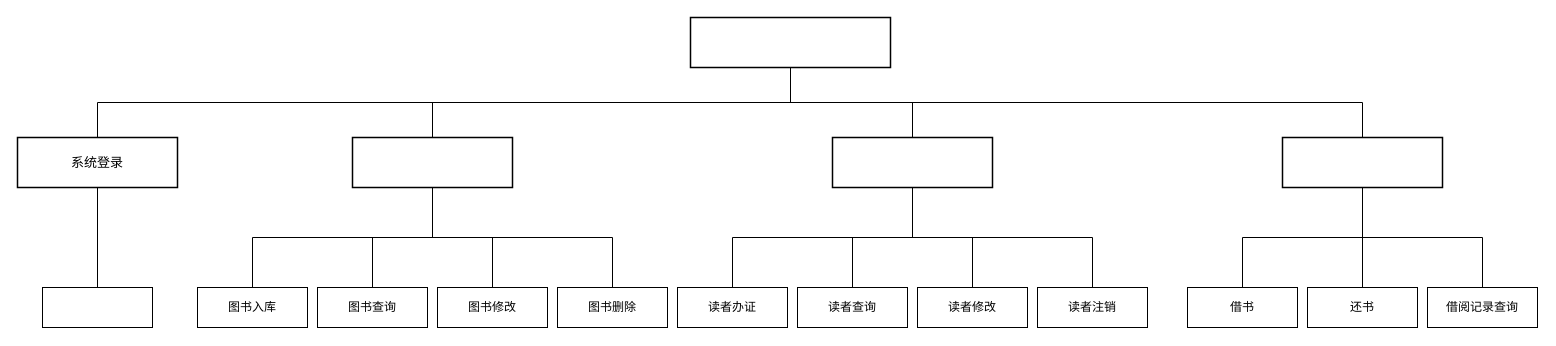
This 1556x346 diagram has some shape labels left out. The shapes that lost their labels are listed below. From the top down, each one's centre as x and y in pixels, then its label:
At point (790, 42): "图书管理系统".
At point (432, 162): "图书管理".
At point (912, 162): "读者管理".
At point (1362, 162): "借阅管理".
At point (97, 307): "管理员登录".
